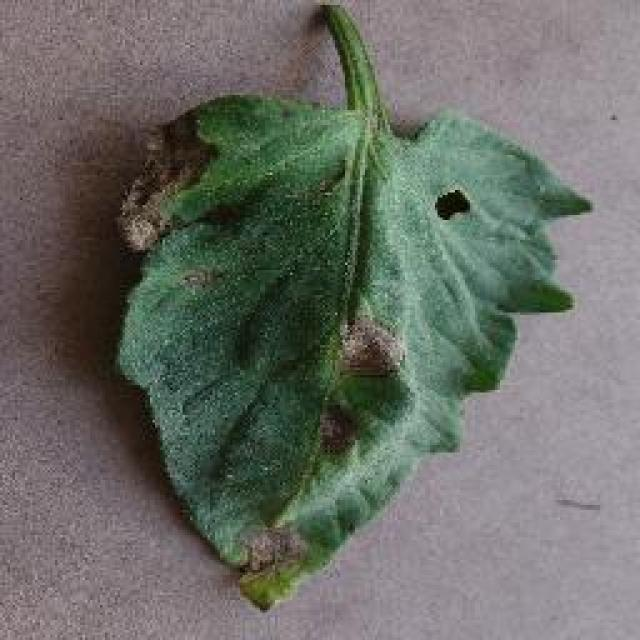Tomato___Early_blight: (111, 2, 598, 621)
